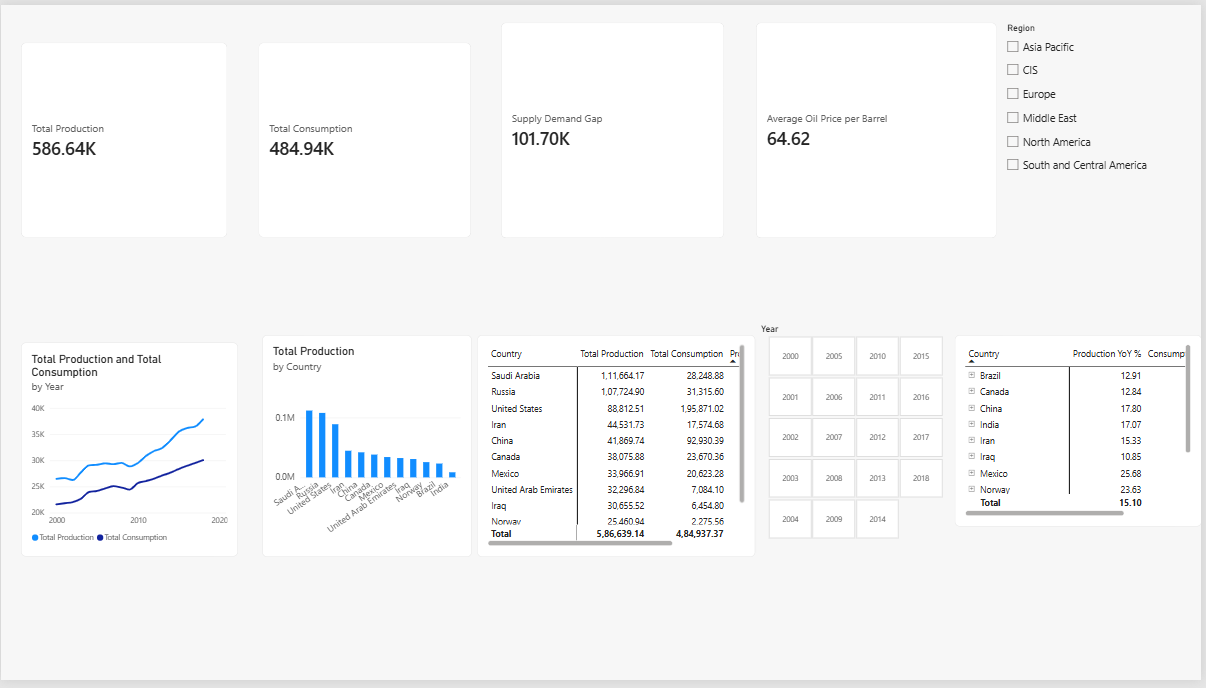

This screenshot's page, from the dashboard's own definition file:
{"tool":"powerbi","page":{"name":"Page 1","canvas":[1920,1080],"ordinal":0},"visuals":[{"type":"cardVisual","fields":{"Data":["Fact_Production.Total Production"]},"box":[32.5,60,330,312.5],"z":0},{"type":"cardVisual","fields":{"Data":["Fact_Consumption.Total Consumption"]},"box":[412.5,60,340,312.5],"z":1000},{"type":"cardVisual","fields":{"Data":["Fact_Production.Supply Demand Gap"]},"box":[800,27.5,357.5,345],"z":2000},{"type":"cardVisual","fields":{"Data":["Fact_oilsales.average oil price"]},"box":[1207.5,27.5,385,345],"z":3000},{"type":"lineChart","fields":{"Category":["Dim_Year.Year"],"Y":["Fact_Production.Total Production","Fact_Consumption.Total Consumption"]},"box":[32.5,540,347.5,342.5],"z":4000},{"type":"columnChart","fields":{"Category":["Dim_Country.Country"],"Y":["Fact_Production.Total Production"]},"box":[417.5,527.5,335,355],"z":5000},{"type":"pivotTable","fields":{"Rows":["Dim_Country.Country"],"Values":["Fact_Production.Total Production","Fact_Consumption.Total Consumption","Fact_Production.Production Rank"]},"box":[762.5,527.5,445,355],"z":6000},{"type":"slicer","fields":{"Values":["Dim_Year.Year"]},"box":[1207.5,510,317,345],"z":7000},{"type":"slicer","fields":{"Values":["Dim_Country.Region"]},"box":[1602.5,27.5,317,345],"z":8000},{"type":"pivotTable","fields":{"Rows":["Dim_Country.Country","Dim_Year.Year"],"Values":["Fact_Production.Production YoY %","Fact_Consumption.Consumption YoY %"]},"box":[1525,376.7,395,306.7],"z":9000},{"type":"decompositionTreeVisual","fields":{"Analyze":["CountNonNull(Dim_Country.Region)"],"ExplainBy":["Dim_Country.Country"]},"box":[1576.7,691.7,343.3,370],"z":10000}]}

Visuals, with their boxes in screenshot pixels (x1, y1, x2, y2), scaled from the page's 1920x1080 canvas onto the 1206x688 screenshot:
cardVisual - Fact_Production.Total Production: box=[20, 38, 228, 237]
cardVisual - Fact_Consumption.Total Consumption: box=[259, 38, 473, 237]
cardVisual - Fact_Production.Supply Demand Gap: box=[503, 18, 727, 237]
cardVisual - Fact_oilsales.average oil price: box=[758, 18, 1000, 237]
lineChart - Dim_Year.Year x Fact_Production.Total Production: box=[20, 344, 239, 562]
columnChart - Dim_Country.Country x Fact_Production.Total Production: box=[262, 336, 473, 562]
pivotTable - Dim_Country.Country x Fact_Production.Total Production: box=[479, 336, 758, 562]
slicer - Dim_Year.Year: box=[758, 325, 958, 545]
slicer - Dim_Country.Region: box=[1007, 18, 1205, 237]
pivotTable - Dim_Country.Country x Dim_Year.Year: box=[958, 240, 1205, 435]
decompositionTreeVisual - CountNonNull(Dim_Country.Region) x Dim_Country.Country: box=[990, 441, 1205, 676]
